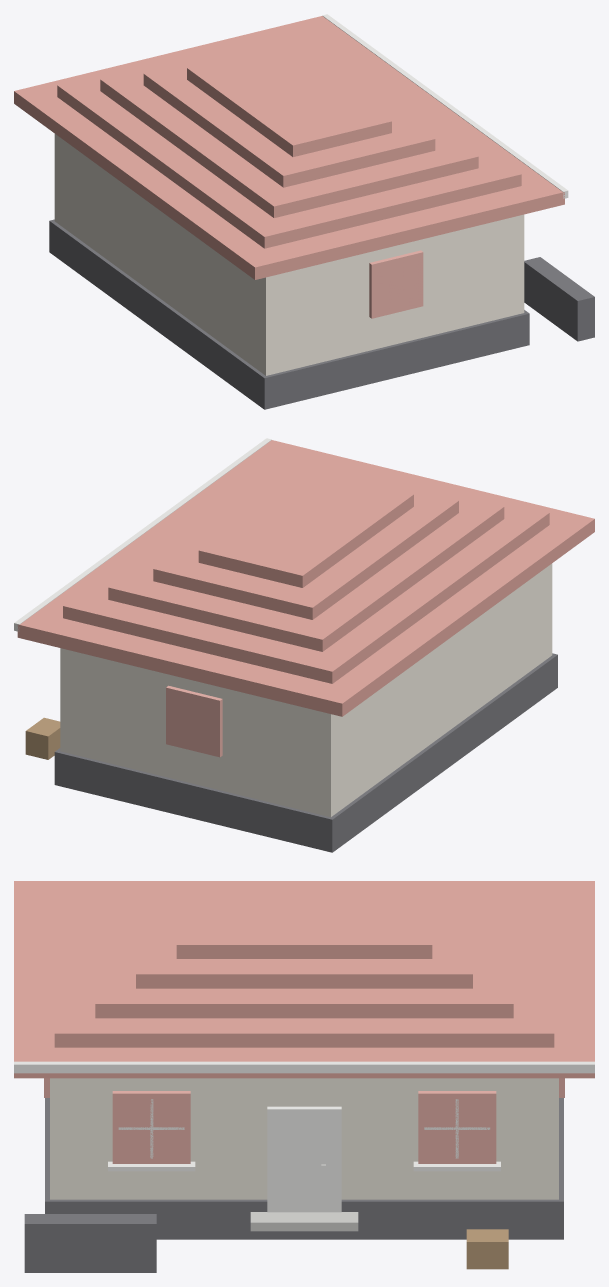
Rendered from House_A.fbx.
The picture shows the model from 3 angles, top to bottom: view 1: azimuth 30°, elevation 25°; view 2: azimuth 150°, elevation 25°; view 3: azimuth 270°, elevation 25°; orthographic projection. The views are drawn at different scales.
Parts seen in each view (by area): view 1: House_A; view 2: House_A; view 3: House_A.
Boxes of the visible parts, left/top/right/bottom form: House_A: left=14, top=14, right=594, bottom=409; House_A: left=14, top=438, right=594, bottom=852; House_A: left=14, top=881, right=594, bottom=1272.
Bounding box in the file's own units: 8 × 4.53 × 9.7.
